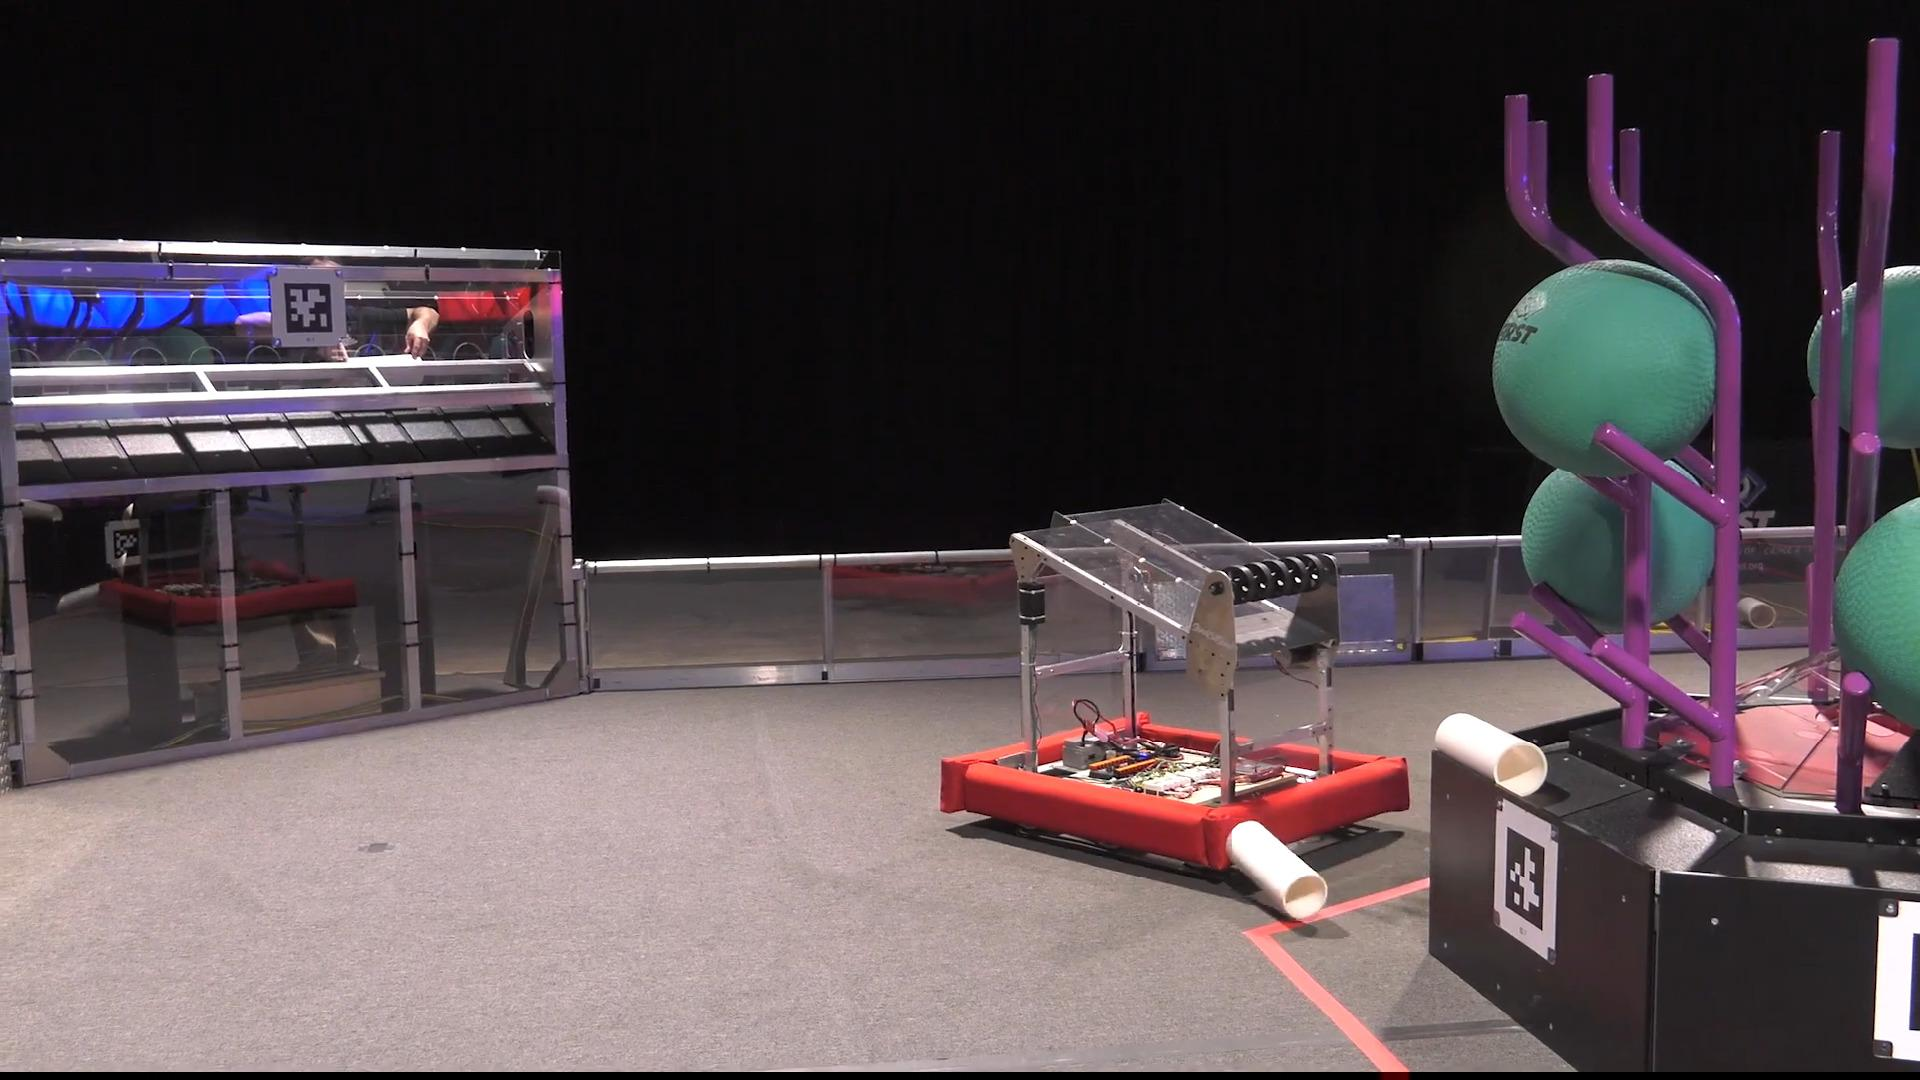coral: (1222, 819, 1328, 922), (1433, 709, 1548, 798)
